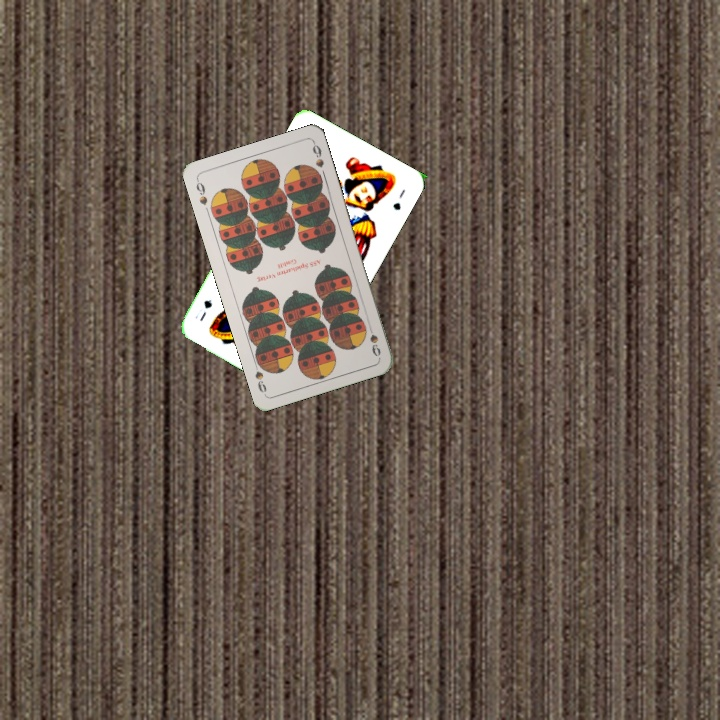S9: (192, 175, 210, 208), (366, 328, 383, 359)
